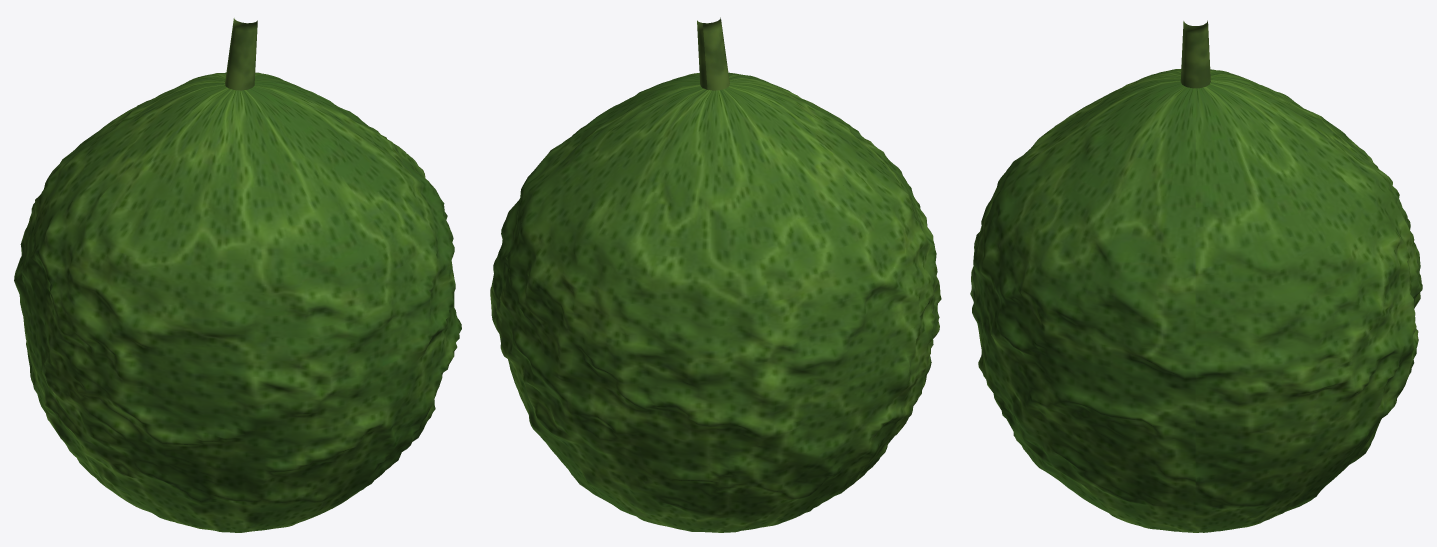
The model's file is combava.glb.
3 renders of one model, left to right at view 1: azimuth 30°, elevation 25°; view 2: azimuth 150°, elevation 25°; view 3: azimuth 270°, elevation 25°, orthographic.
Parts seen in each view (by area): view 1: entier_peau, moitie_A_peau, moitie_B_peau, entier_extra0; view 2: entier_peau, moitie_B_peau, moitie_A_peau, entier_extra0; view 3: entier_peau, moitie_A_peau, moitie_B_peau, entier_extra0.
Boxes of the visible parts, box(x1,y1,x2,y2) form: entier_peau: box(14, 72, 461, 532); moitie_A_peau: box(45, 80, 461, 532); moitie_B_peau: box(14, 72, 382, 488); entier_extra0: box(225, 18, 257, 90); entier_peau: box(491, 72, 940, 532); moitie_B_peau: box(490, 80, 909, 532); moitie_A_peau: box(569, 72, 941, 487); entier_extra0: box(697, 17, 729, 90); entier_peau: box(970, 69, 1421, 532); moitie_A_peau: box(971, 69, 1195, 532); moitie_B_peau: box(1195, 69, 1422, 532); entier_extra0: box(1180, 20, 1210, 88).
Size of the model in its own units: 0.0518 by 0.0631 by 0.0519.
3 materials, 3 textured.
